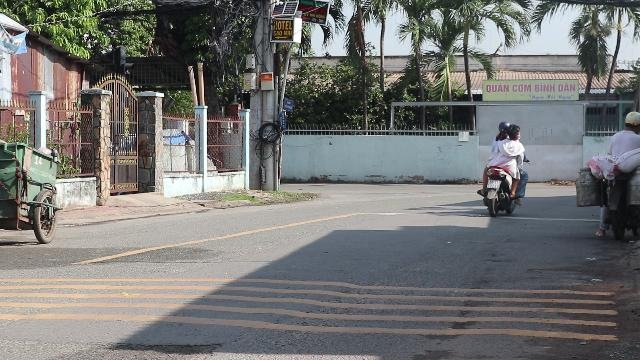helmet: (624, 111, 640, 131)
motorcyclist: (598, 110, 640, 240)
